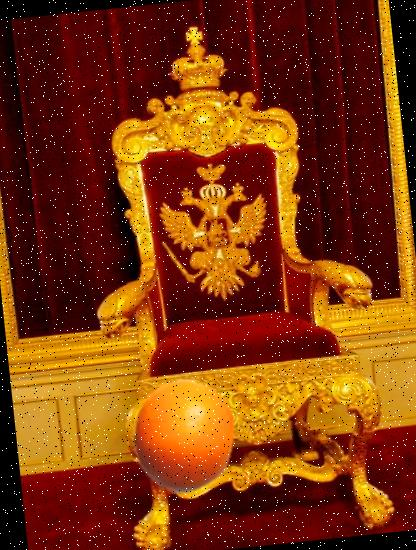Grapefruit: (121, 374, 245, 498)
